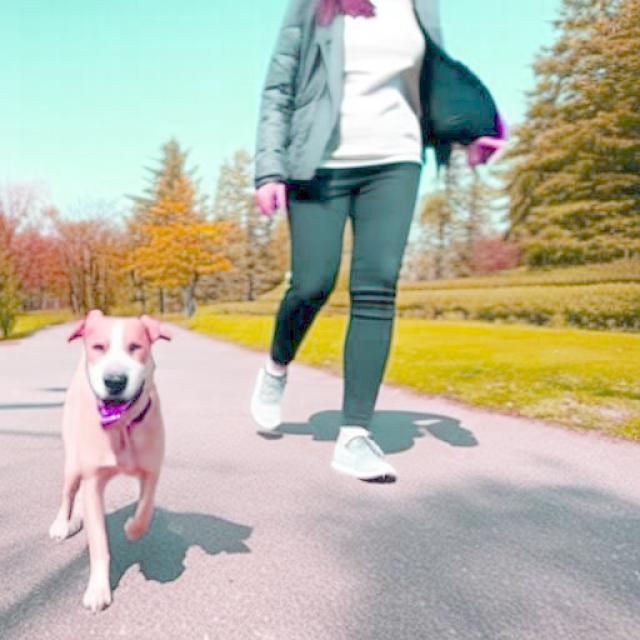Unleashed_Dog: (48, 163, 424, 616)
